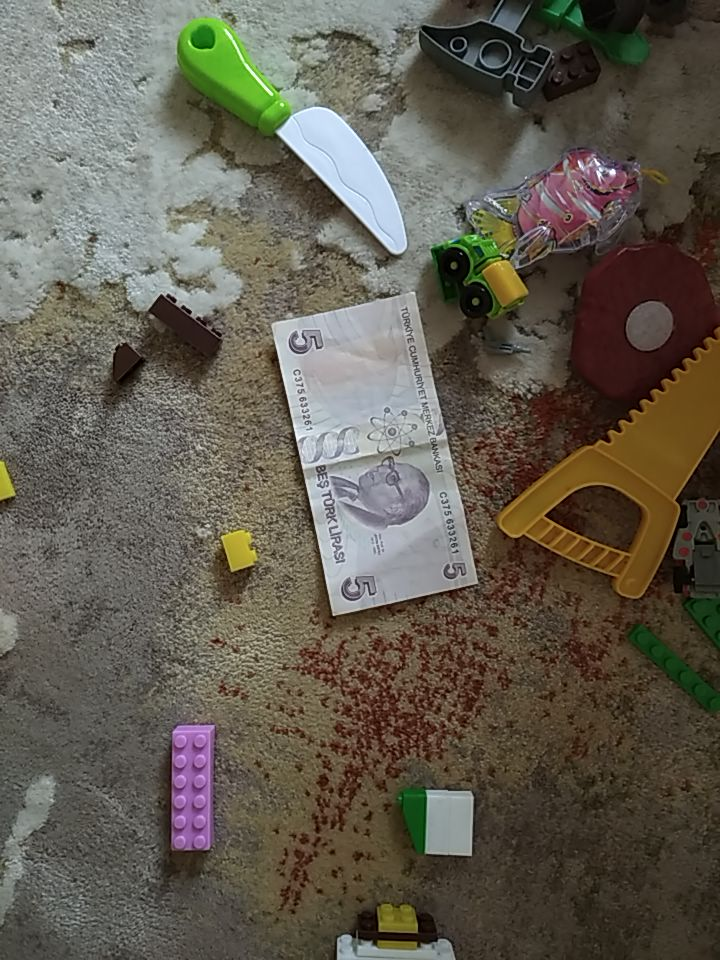5TL: (272, 289, 480, 621)
